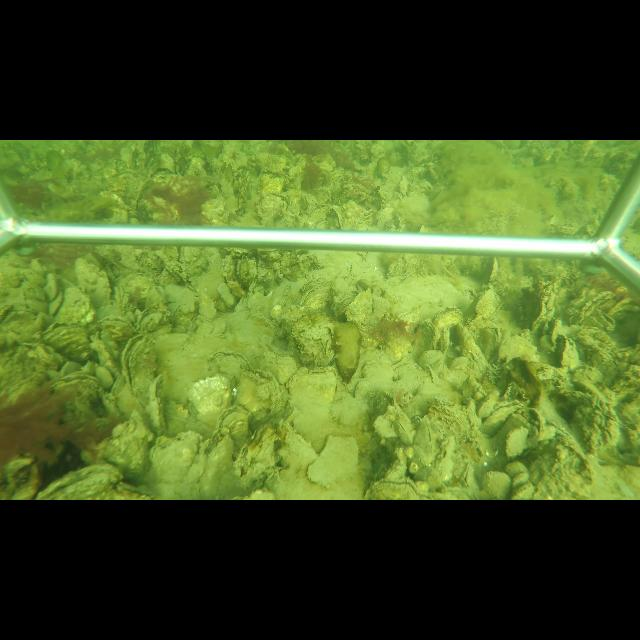Oyster-Closed: (286, 366, 342, 446), (123, 326, 169, 401), (148, 429, 202, 491), (35, 463, 123, 498), (306, 434, 361, 490), (232, 425, 279, 482), (235, 370, 284, 419), (289, 313, 334, 365), (196, 434, 232, 496), (345, 289, 382, 346), (336, 322, 363, 393), (528, 279, 559, 334), (76, 258, 113, 304), (482, 400, 525, 435), (50, 372, 100, 401), (207, 349, 254, 376), (148, 374, 168, 434), (469, 285, 499, 322), (364, 478, 419, 498), (434, 307, 462, 346), (299, 278, 332, 310), (416, 419, 438, 465), (480, 471, 511, 499), (504, 426, 529, 460), (557, 332, 580, 366), (480, 325, 505, 353), (462, 463, 477, 491), (484, 256, 500, 281)
Oyster-Open: (50, 280, 94, 324), (596, 307, 617, 332), (106, 376, 124, 399)
